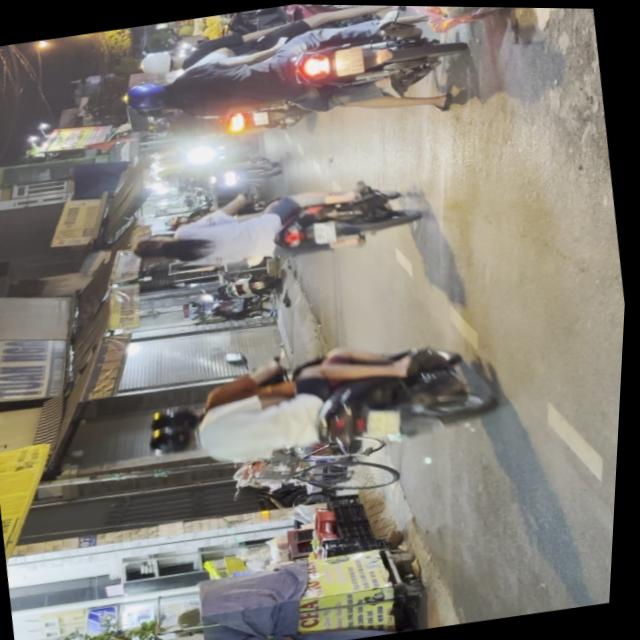helmet: (149, 403, 208, 438), (149, 426, 204, 462), (122, 82, 173, 118), (136, 49, 181, 79)
licenseplate: (135, 321, 514, 491), (106, 1, 470, 158), (123, 170, 425, 289)
motorcyclist: (132, 235, 182, 267)
nohelmet: (367, 406, 406, 440), (332, 46, 365, 77), (313, 220, 338, 245)
